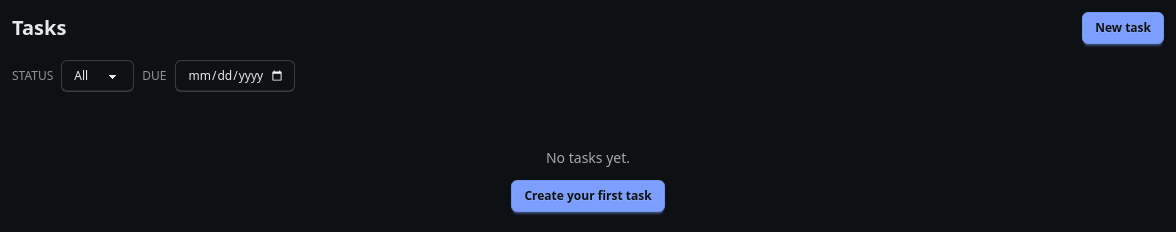
Test: TasksPage › says so when filters match nothing
This screenshot has width=1176, height=232.
Expected: the text "No tasks yet." is shown, [546,148,630,168]
Select "Done" in the dropdown named "Status filter" at (98, 76), box [61,60,134,92]
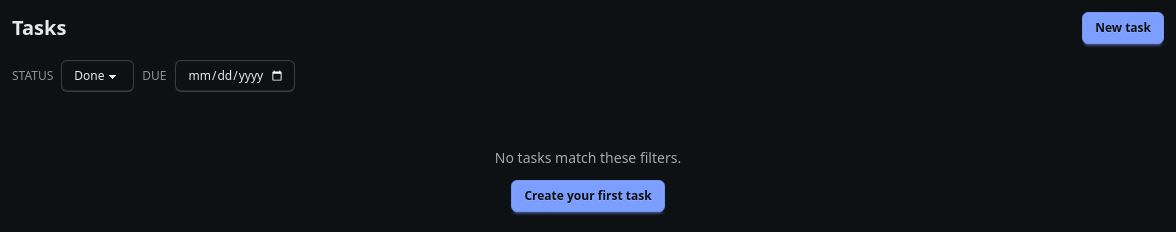
Expected: the text "No tasks match these filters." is shown, [495,148,681,168]
